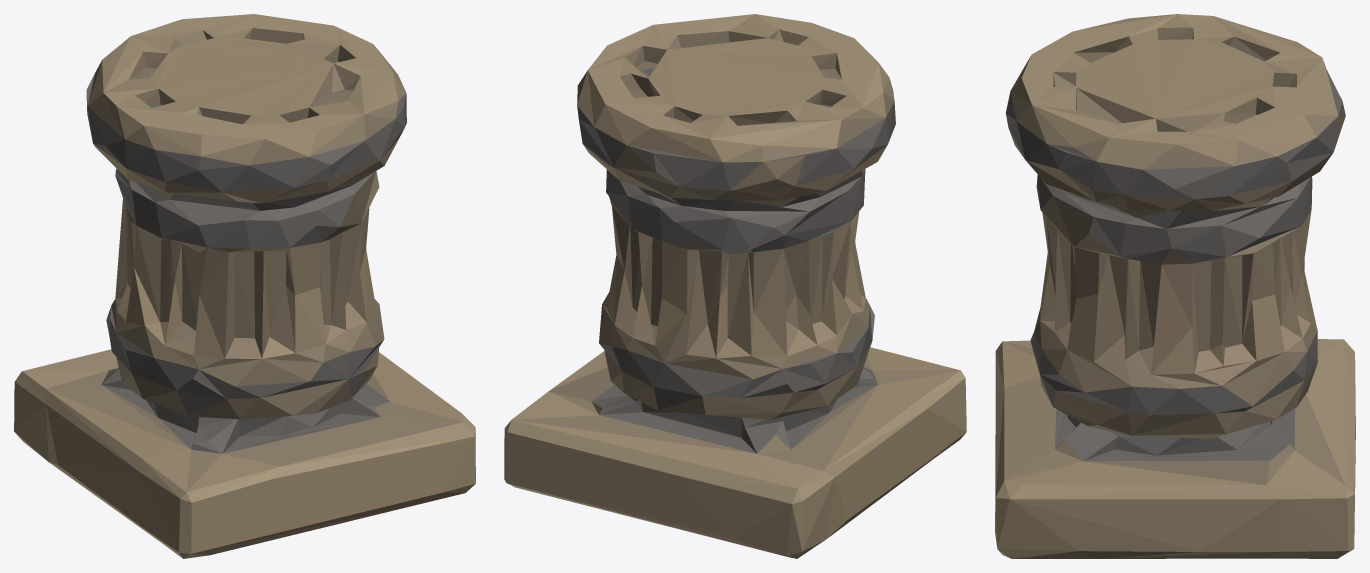
The model's file is capstan.glb.
3 renders of one model, left to right at view 1: azimuth 30°, elevation 25°; view 2: azimuth 150°, elevation 25°; view 3: azimuth 270°, elevation 25°, orthographic. The views are drawn at different scales.
Parts seen in each view (by area): view 1: Hull; view 2: Hull; view 3: Hull.
Part boxes in pixels (x1,y1,x2,y2): Hull: (14, 14, 475, 558); Hull: (504, 14, 966, 558); Hull: (995, 14, 1355, 558).
Bounding box in the file's own units: 0.8877 × 1.1 × 0.8827.
